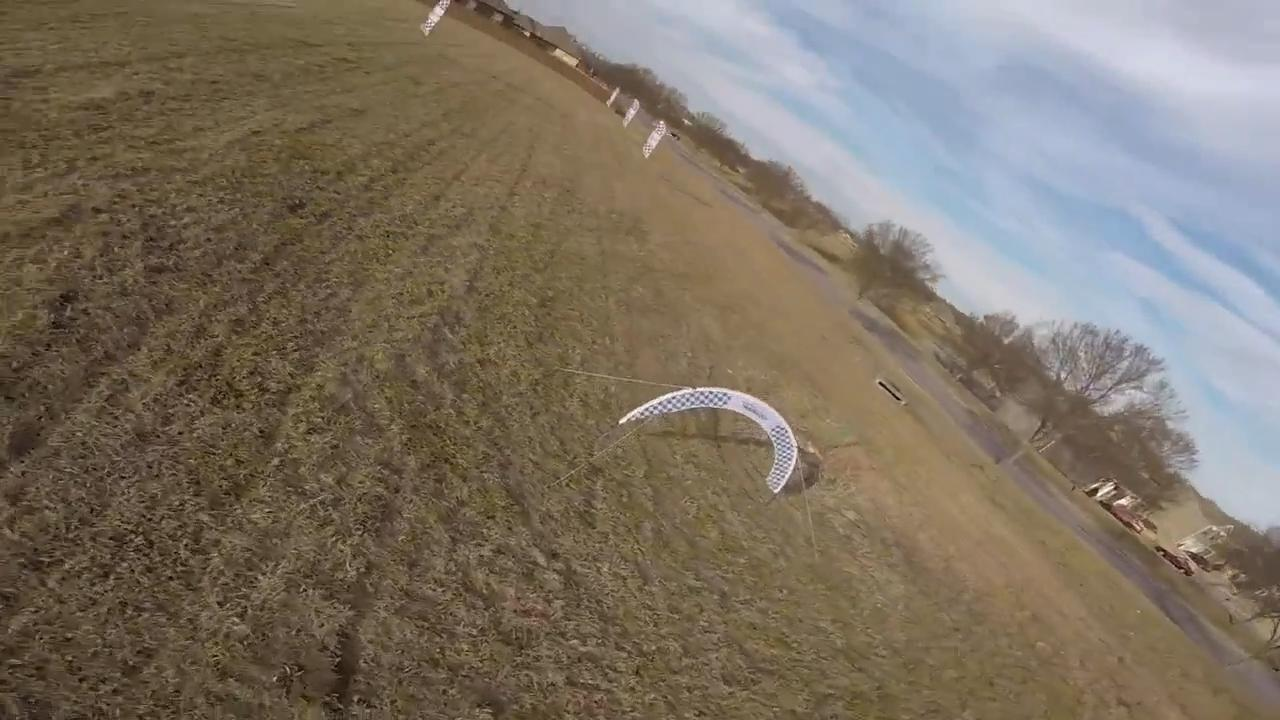gate: (619, 384, 800, 494)
